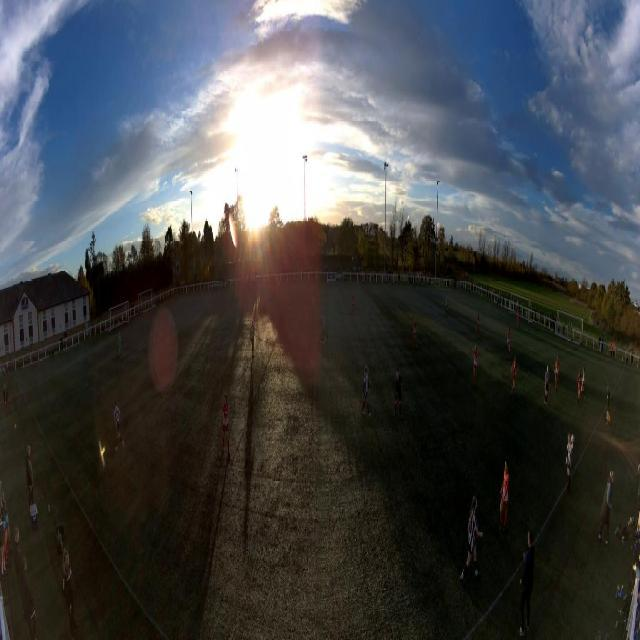player: (459, 494, 480, 583), (499, 459, 511, 536), (114, 399, 125, 451), (222, 395, 231, 457), (361, 366, 371, 416), (395, 363, 402, 421), (511, 357, 518, 395), (472, 344, 478, 385), (249, 318, 255, 358), (544, 366, 550, 404), (322, 315, 329, 342), (412, 318, 418, 348), (554, 357, 559, 391), (577, 371, 582, 403), (581, 368, 585, 405), (507, 327, 511, 357), (351, 294, 356, 314), (477, 311, 480, 335), (118, 334, 121, 356), (445, 296, 448, 315), (516, 313, 519, 330)
